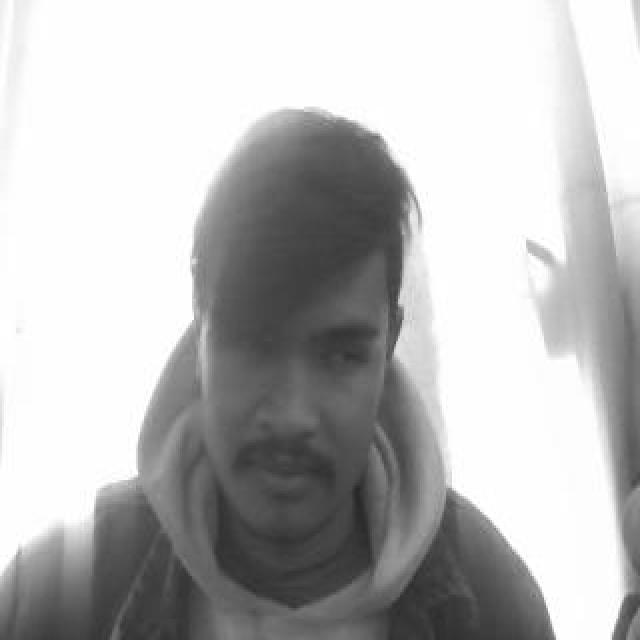Focused: (195, 230, 385, 534)
